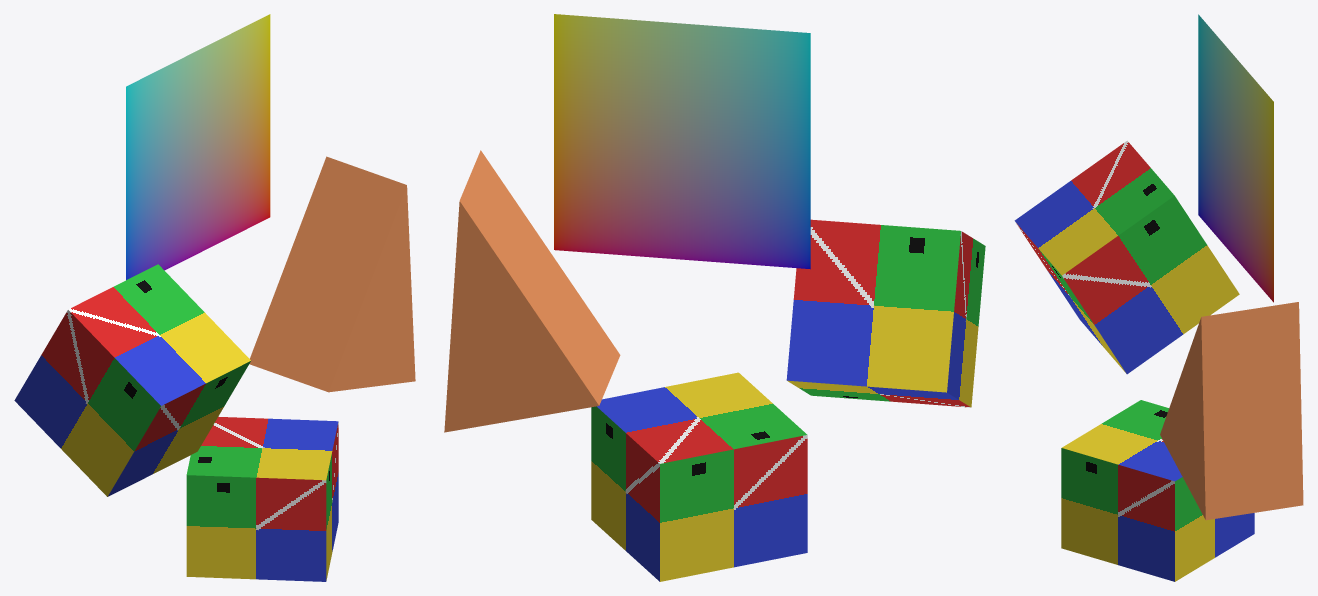
3 renders of one model, left to right at view 1: azimuth 30°, elevation 25°; view 2: azimuth 150°, elevation 25°; view 3: azimuth 270°, elevation 25°, orthographic. The views are drawn at different scales.
Visible parts, largest first — view 1: box_node, panel_node, wedge_node, mirrored_box; view 2: panel_node, mirrored_box, box_node, wedge_node; view 3: box_node, wedge_node, mirrored_box, panel_node.
Part boxes in pixels (x1=…): box_node: x1=14, y1=264, x2=250, y2=496; panel_node: x1=126, y1=14, x2=270, y2=279; wedge_node: x1=249, y1=156, x2=415, y2=392; mirrored_box: x1=186, y1=416, x2=338, y2=581; panel_node: x1=554, y1=14, x2=810, y2=269; mirrored_box: x1=591, y1=372, x2=807, y2=581; box_node: x1=786, y1=219, x2=985, y2=407; wedge_node: x1=444, y1=150, x2=620, y2=432; box_node: x1=1014, y1=140, x2=1239, y2=374; wedge_node: x1=1160, y1=302, x2=1303, y2=520; mirrored_box: x1=1061, y1=400, x2=1254, y2=581; panel_node: x1=1198, y1=14, x2=1273, y2=302.
Bounding box in the file's own units: 3.36 × 3.75 × 2.08.
3 materials, 1 textured.
